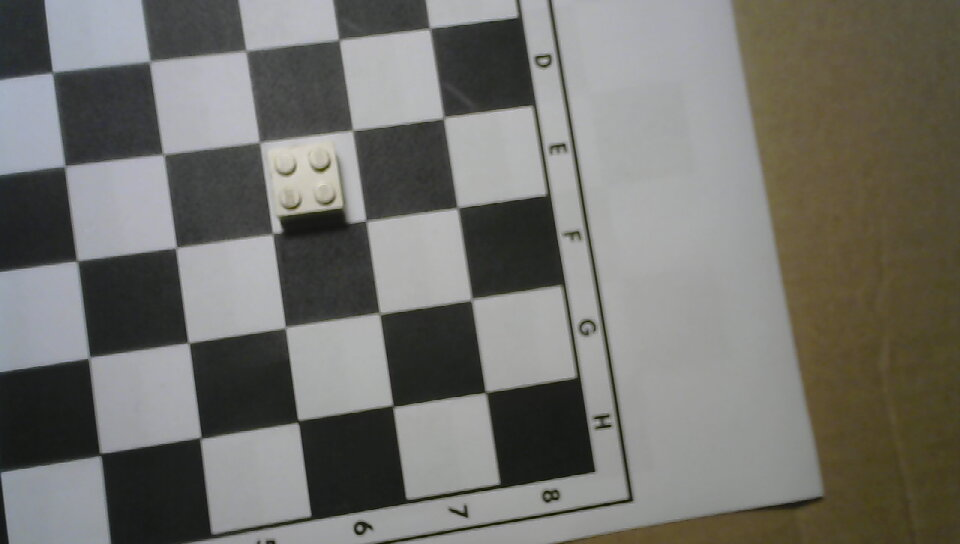wp: (255, 137, 359, 233)
